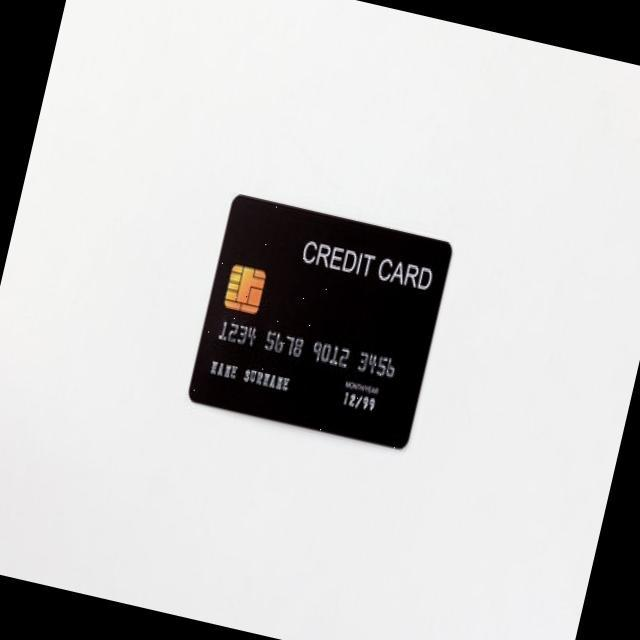payment_card: (187, 192, 453, 450)
